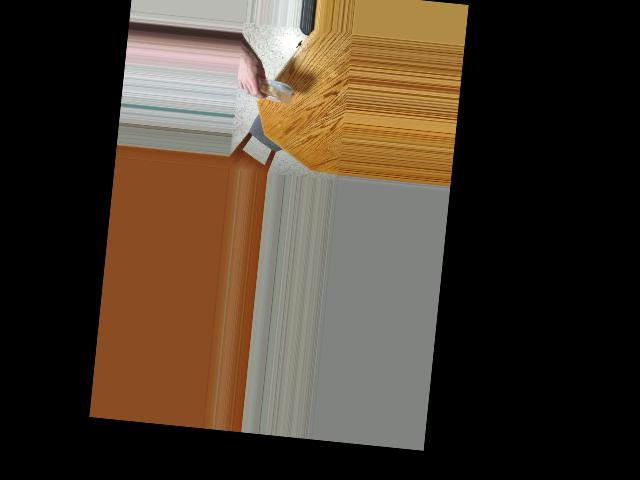cheese: (245, 59, 296, 112)
